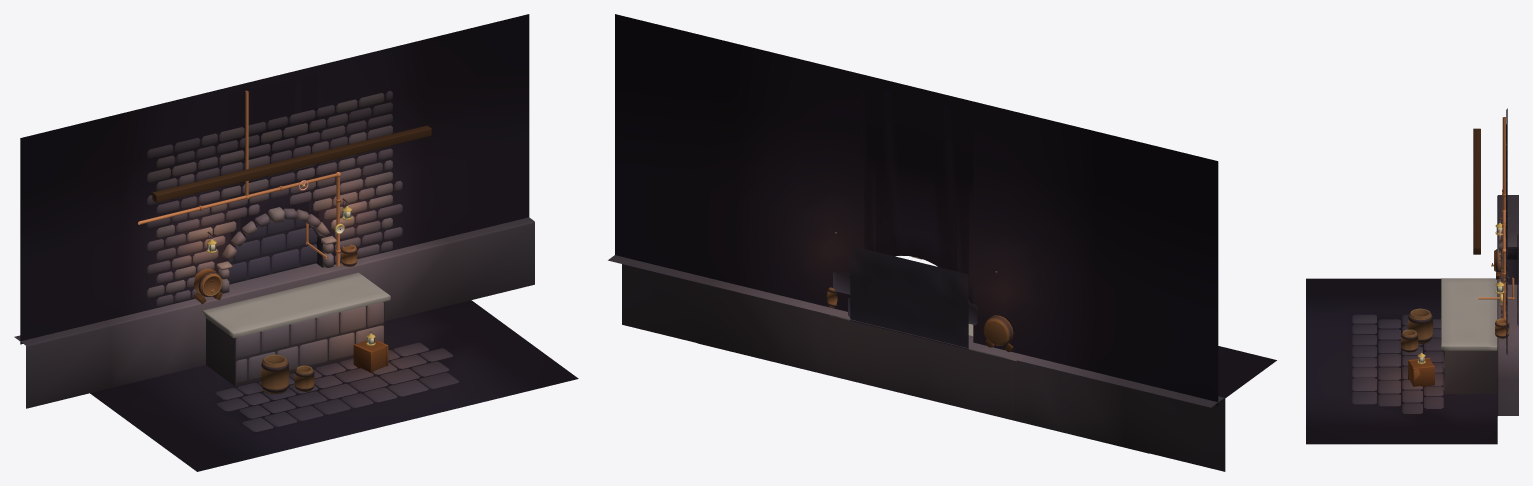
File: place_potion.glb
3 renders of one model, left to right at view 1: azimuth 30°, elevation 25°; view 2: azimuth 150°, elevation 25°; view 3: azimuth 270°, elevation 25°, orthographic. The views are drawn at different scales.
Parts seen in each view (by area): view 1: place, place_metal; view 2: place; view 3: place, place_metal.
Boxes of the visible parts, x1,y1,x2,y2 form: place: (14,14,578,471); place_metal: (138,90,375,345); place: (608,14,1276,471); place: (1306,108,1518,444); place_metal: (1417,117,1514,364).
Bounding box in the file's own units: 24 × 12.01 × 9.77.
